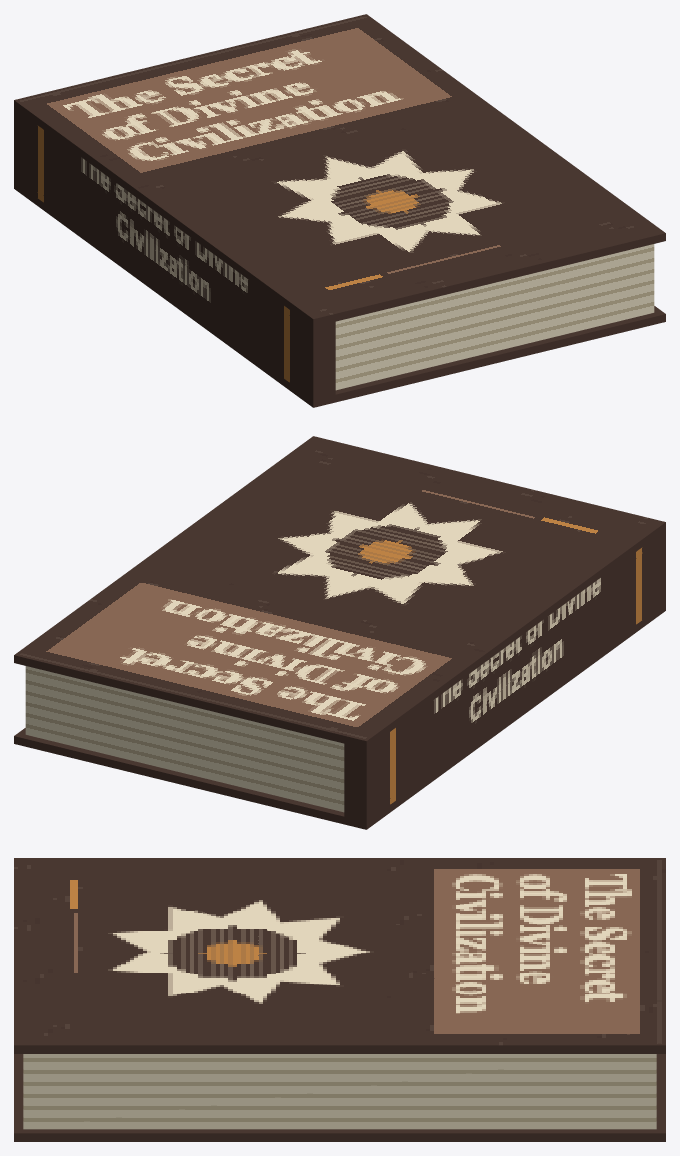
The model's file is holybook_bahai4.glb.
The picture shows the model from 3 angles, top to bottom: view 1: azimuth 30°, elevation 25°; view 2: azimuth 150°, elevation 25°; view 3: azimuth 270°, elevation 25°; orthographic projection. The views are drawn at different scales.
Visible parts, largest first — view 1: block_front cover, block_spine, block_page block, block_back cover; view 2: block_front cover, block_spine, block_page block, block_back cover; view 3: block_front cover, block_page block, block_back cover.
Part boxes in pixels (x1=…): block_front cover: x1=14, y1=14, x2=665, y2=326; block_spine: x1=14, y1=108, x2=335, y2=399; block_page block: x1=335, y1=244, x2=654, y2=390; block_back cover: x1=14, y1=181, x2=665, y2=407; block_front cover: x1=14, y1=436, x2=665, y2=748; block_spine: x1=344, y1=530, x2=665, y2=821; block_page block: x1=25, y1=666, x2=344, y2=812; block_back cover: x1=14, y1=603, x2=665, y2=829; block_front cover: x1=14, y1=858, x2=665, y2=1053; block_page block: x1=23, y1=1054, x2=656, y2=1129; block_back cover: x1=14, y1=1054, x2=665, y2=1141.
Bounding box in the file's own units: 0.1414 × 0.034 × 0.208.
Materials: 1 (1 with a texture image).
